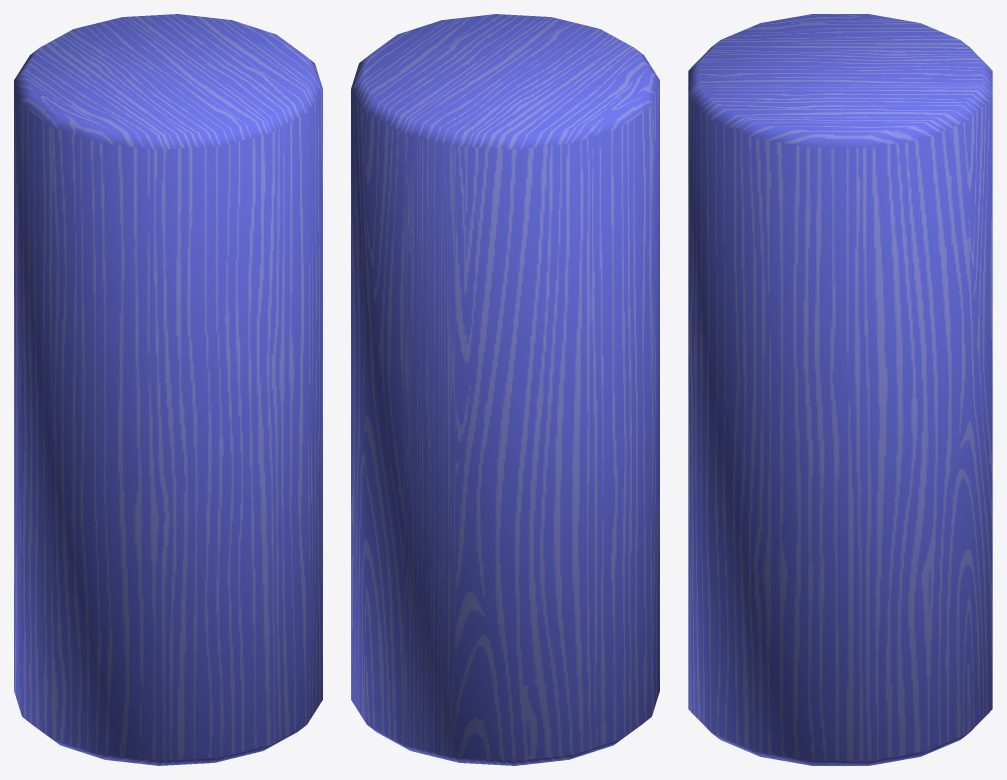
File: wooden cylinder.fbx
3 renders of one model, left to right at view 1: azimuth 30°, elevation 25°; view 2: azimuth 150°, elevation 25°; view 3: azimuth 270°, elevation 25°, orthographic.
Visible parts, largest first — view 1: BLUE Cylinder; view 2: BLUE Cylinder; view 3: BLUE Cylinder.
Boxes of the visible parts, box(x1,y1,x2,y2) form: BLUE Cylinder: box(14, 14, 322, 765); BLUE Cylinder: box(351, 14, 659, 765); BLUE Cylinder: box(688, 14, 992, 765).
Bounding box in the file's own units: 196 × 450 × 196.
